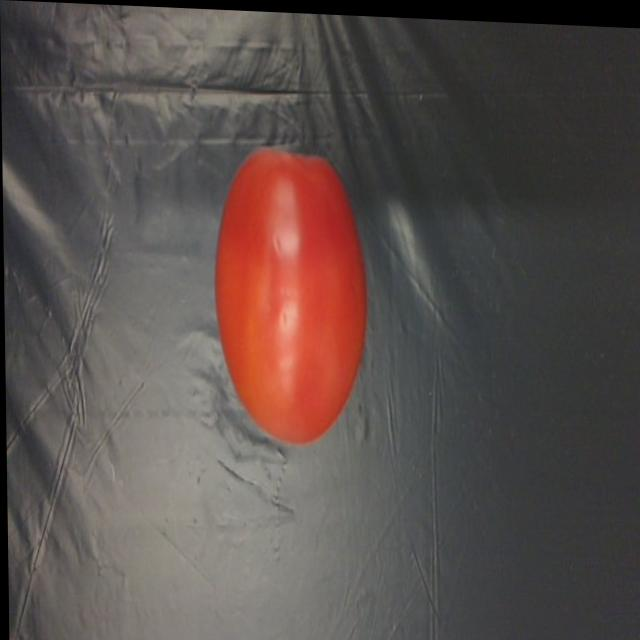kirmizi: (202, 148, 364, 474)
